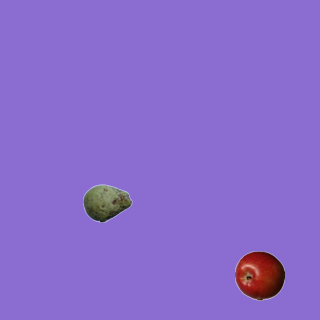Apple Braeburn: (234, 250, 284, 300)
Pear Stone: (82, 178, 132, 228)
